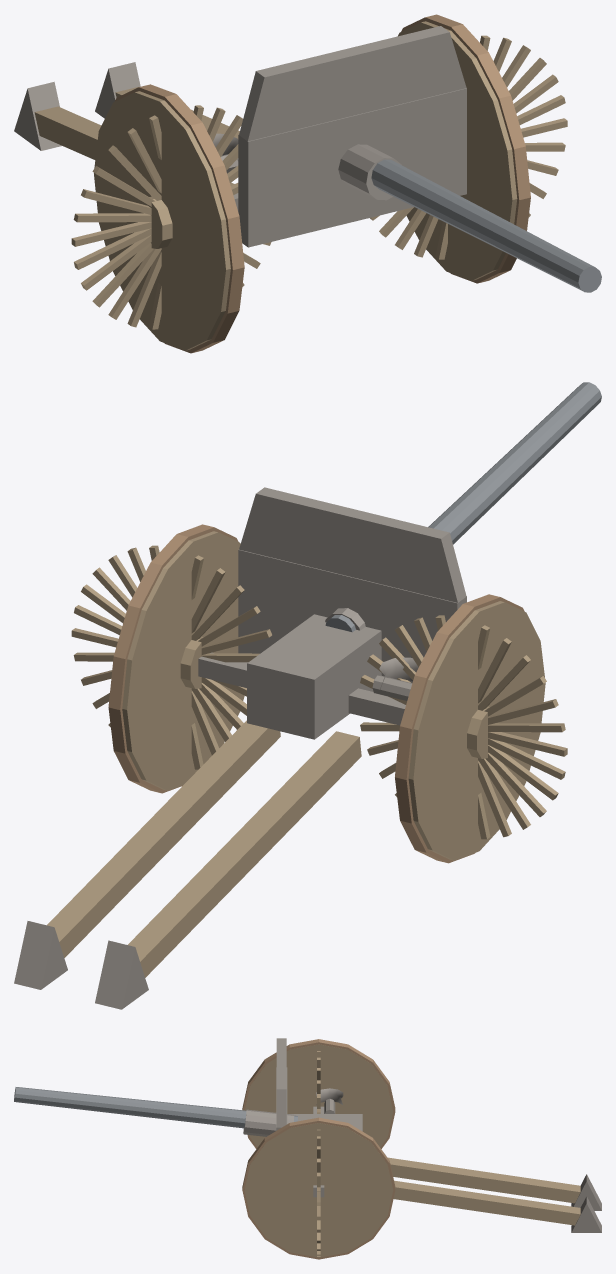
File: trench-line-1917-field-gun-09429aec__24127.glb
3 views of the same model, one above another, from view 1: azimuth 30°, elevation 25°; view 2: azimuth 150°, elevation 25°; view 3: azimuth 270°, elevation 25° (orthographic). The views are drawn at different scales.
Visible parts, largest first — view 1: field-gun; view 2: field-gun; view 3: field-gun.
Part boxes in pixels (x1,y1,x2,y2): field-gun: [14, 14, 601, 353]; field-gun: [14, 382, 601, 1009]; field-gun: [14, 1038, 601, 1259].
Size of the model in its own units: 2.92 by 1.58 by 5.38.
